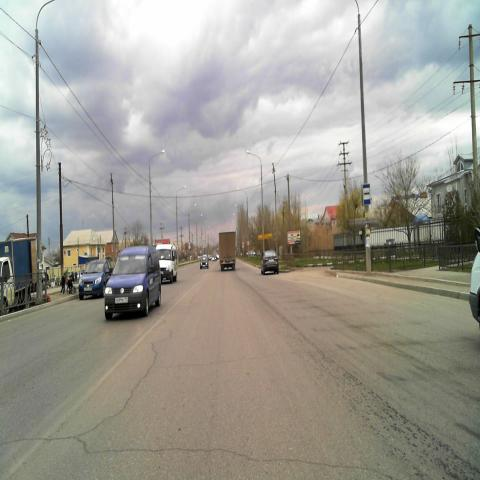5_16: (362, 182, 371, 206)
